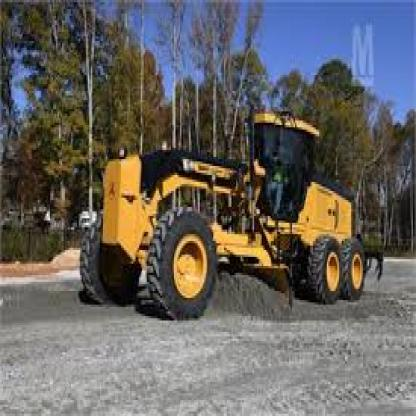bull_dozer/loader/grader: (74, 98, 390, 332)
